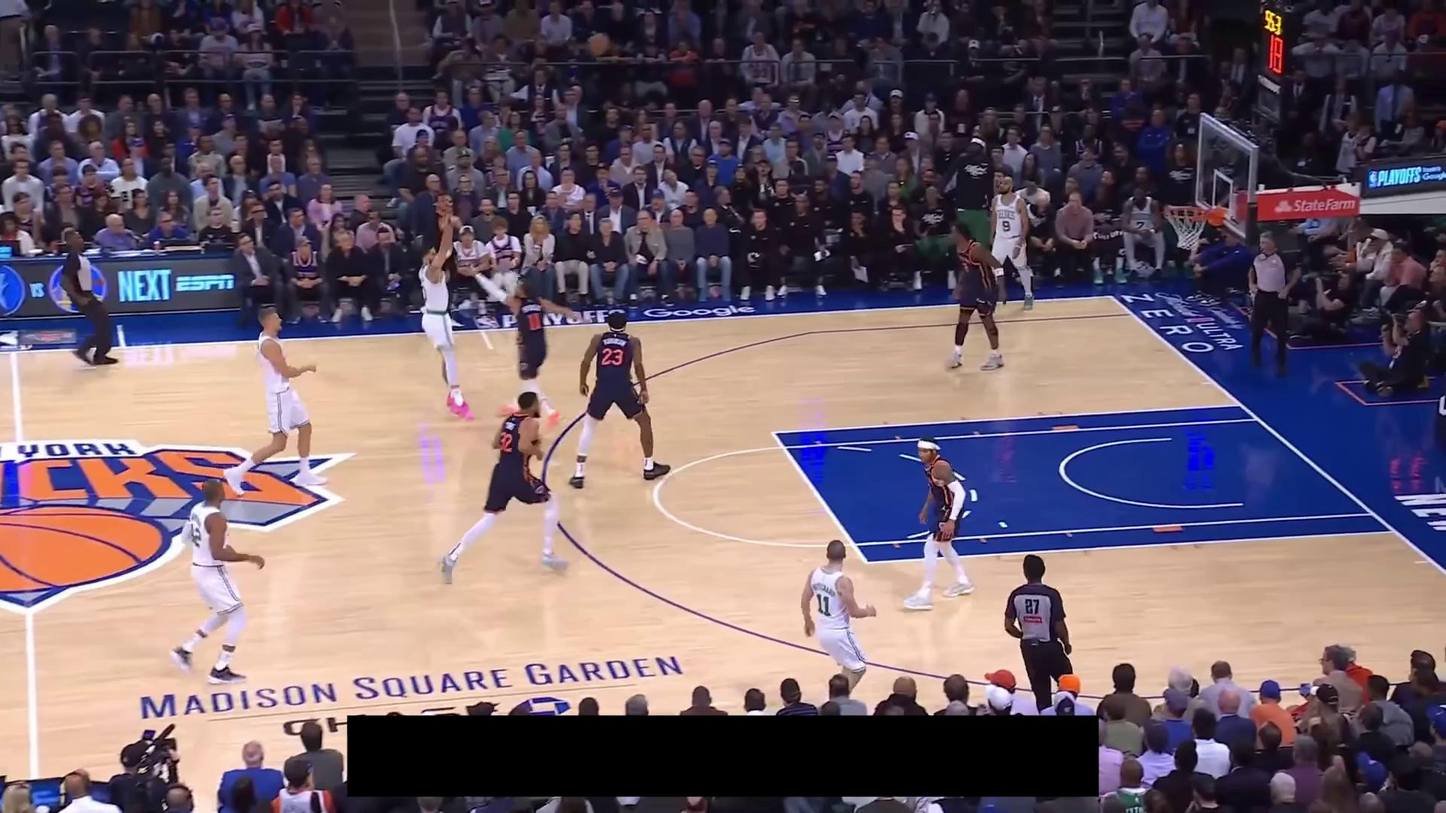ball: (589, 33, 610, 55)
number: (601, 348, 624, 366), (816, 593, 831, 617), (498, 431, 514, 453), (191, 523, 202, 549), (527, 312, 542, 331), (1001, 218, 1011, 233)
player: (438, 390, 571, 586), (221, 305, 329, 498), (168, 477, 267, 687), (568, 308, 673, 490), (895, 431, 978, 614), (794, 534, 881, 703), (939, 218, 1009, 374), (984, 174, 1039, 315)
player-jump-shot: (417, 208, 474, 423)
player-shot-block: (463, 251, 588, 434)
referee: (1003, 554, 1074, 713), (58, 233, 121, 367), (1246, 230, 1303, 377)
rim: (1164, 205, 1210, 220)
